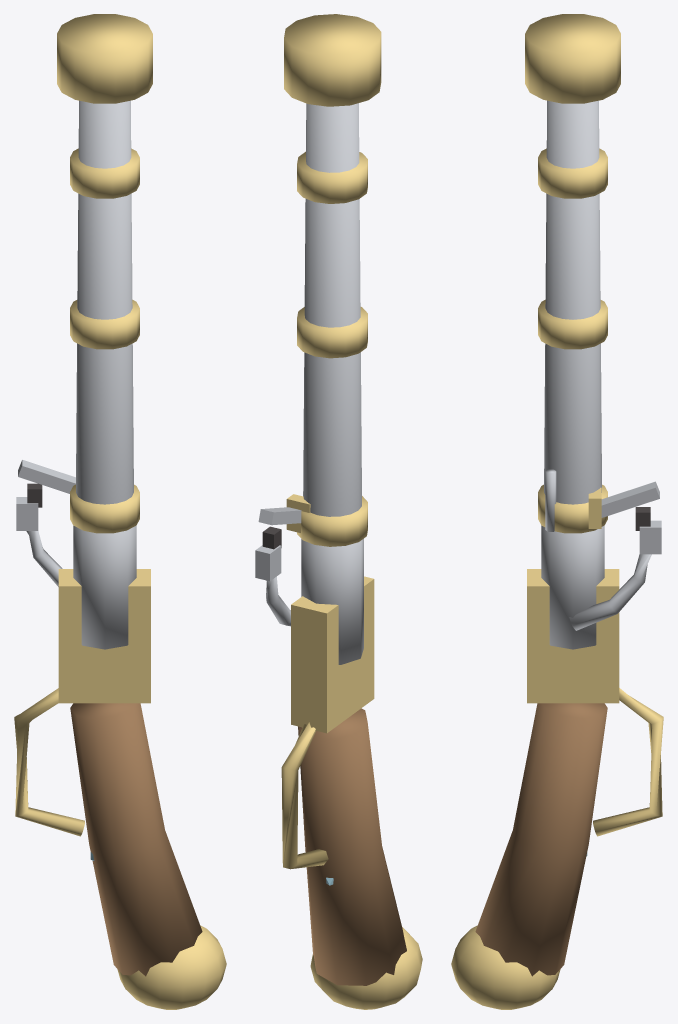
File: blackwood_pistole.glb
The picture shows the model from 3 angles, left to right: view 1: azimuth 90°, elevation 25°; view 2: azimuth 150°, elevation 25°; view 3: azimuth 270°, elevation 25°; orthographic projection. The views are drawn at different scales.
Parts seen in each view (by area): view 1: G_blackwood_pistole; view 2: G_blackwood_pistole; view 3: G_blackwood_pistole.
Boxes of the visible parts, <box> form: G_blackwood_pistole: <box>14,14,226,1009</box>; G_blackwood_pistole: <box>255,14,422,1009</box>; G_blackwood_pistole: <box>451,14,663,1009</box>.
Size of the model in its own units: 0.0585 by 0.58 by 0.1152.
